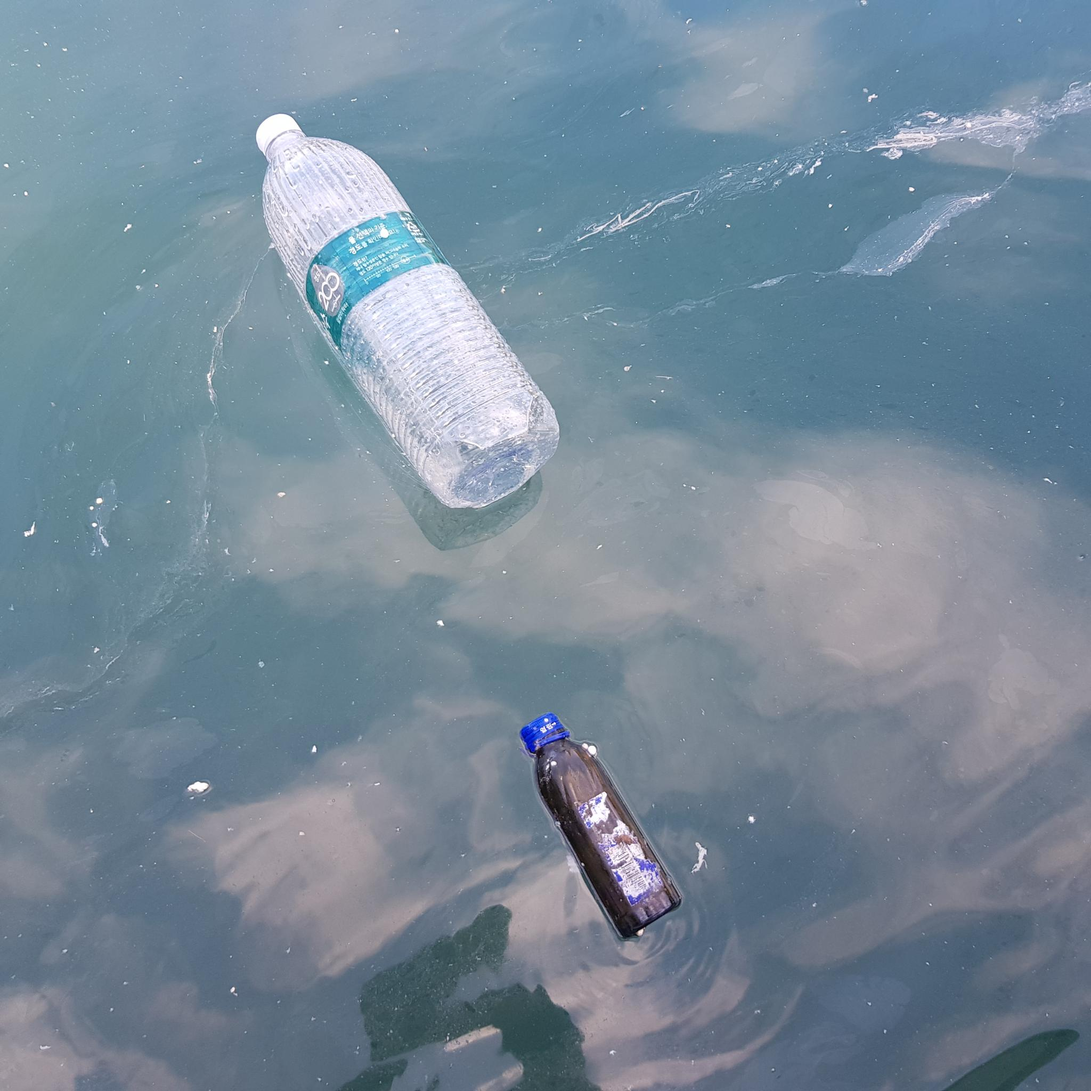sampah_terapung: (256, 114, 562, 509), (518, 712, 683, 939)
